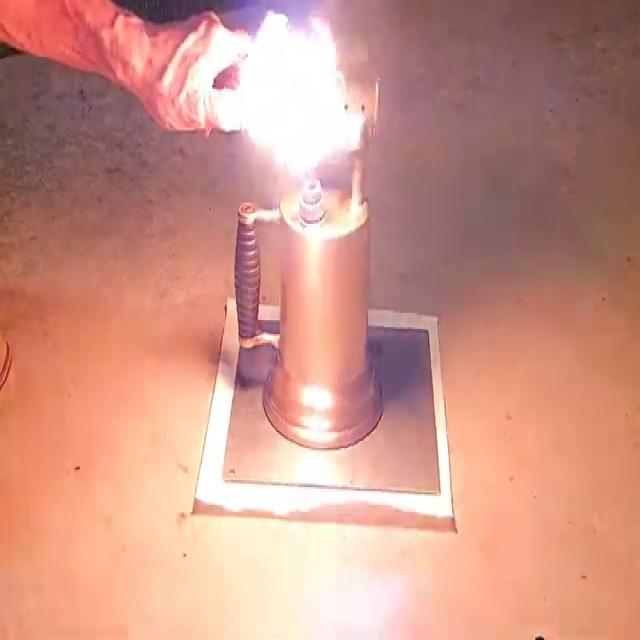fire: (222, 0, 389, 212)
